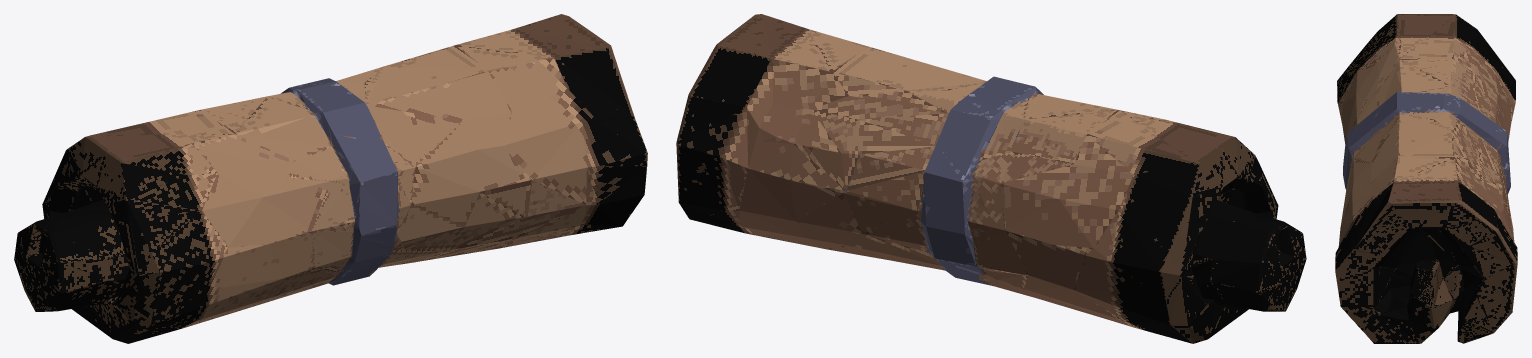
The picture shows the model from 3 angles, left to right: view 1: azimuth 30°, elevation 25°; view 2: azimuth 150°, elevation 25°; view 3: azimuth 270°, elevation 25°; orthographic projection. The views are drawn at different scales.
Parts seen in each view (by area): view 1: OBJ139; view 2: OBJ139; view 3: OBJ139.
Part boxes in pixels (<box>): OBJ139: <box>14,14,647,343</box>; OBJ139: <box>676,14,1306,343</box>; OBJ139: <box>1335,14,1517,343</box>.
Bounding box in the file's own units: 0.3363 × 0.1001 × 0.1158.
1 material, 1 textured.
